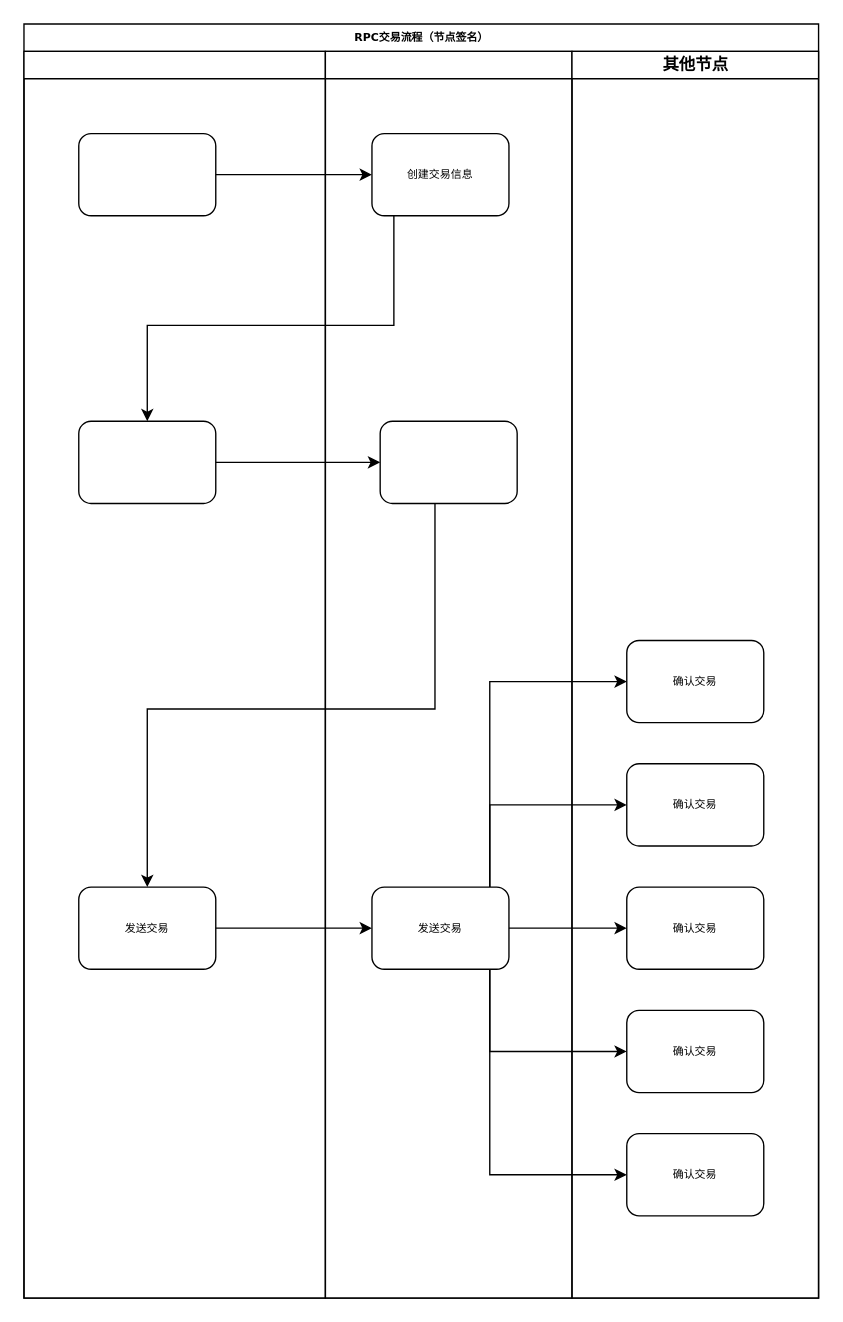
Image size: 843x1322. Some labels were removed from this diagram. The box of each missing label's shape, as (x1, y1, x2, y2) in pixels:
发起交易: (77, 132, 216, 216)
发送待签名信息: (77, 420, 216, 503)
可信节点: (324, 50, 572, 1298)
用户: (23, 50, 325, 1298)
签名: (379, 420, 517, 503)
